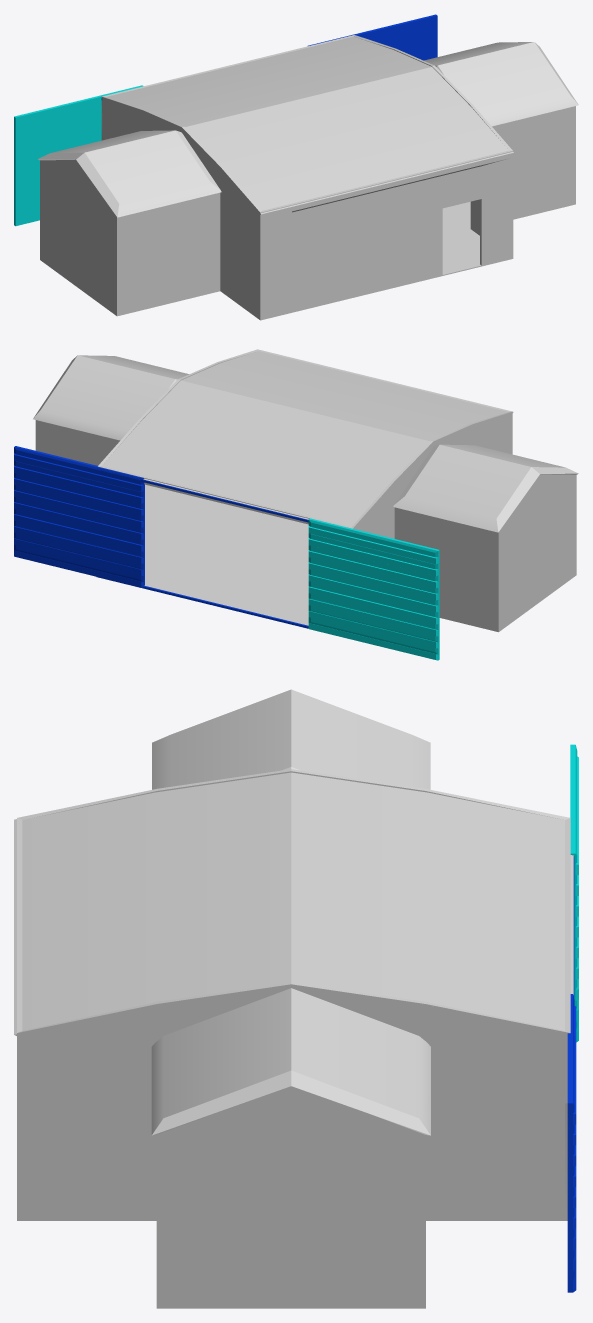
Rendered from EsasHangar.fbx.
3 renders of one model, top to bottom at view 1: azimuth 30°, elevation 25°; view 2: azimuth 150°, elevation 25°; view 3: azimuth 270°, elevation 25°, orthographic. The views are drawn at different scales.
Visible parts, largest first — view 1: Çatı, Wall4, Wall2, Wall1, Wall6, MainHangar, Kapı2, Wall3, Zemin, Kapı1, Wall10, Wall5; view 2: Çatı, Zemin, Kapı2, Kapı1, Wall1, Wall11, MainHangar, Wall8, Wall3, Kapı Tekerleği1, Wall10, Kapı Tekerleği2; view 3: Çatı, Wall7, Wall9, Wall5, MainHangar, Kapı1, Kapı2, Zemin, Wall6, Wall4, Wall8.
Part boxes in pixels (left/top/right/bottom): Çatı: left=38, top=36, right=578, bottom=217; Wall4: left=258, top=158, right=510, bottom=319; Wall2: left=115, top=192, right=220, bottom=315; Wall1: left=41, top=159, right=119, bottom=315; Wall6: left=492, top=106, right=573, bottom=218; MainHangar: left=101, top=35, right=513, bottom=218; Kapı2: left=14, top=85, right=143, bottom=226; Wall3: left=220, top=190, right=262, bottom=319; Zemin: left=40, top=201, right=575, bottom=320; Kapı1: left=308, top=14, right=437, bottom=60; Wall10: left=101, top=103, right=139, bottom=139; Wall5: left=470, top=157, right=513, bottom=258; Çatı: left=33, top=351, right=578, bottom=532; Zemin: left=144, top=484, right=574, bottom=631; Kapı2: left=308, top=518, right=439, bottom=660; Kapı1: left=14, top=446, right=144, bottom=587; Wall1: left=496, top=474, right=574, bottom=631; Wall11: left=394, top=507, right=500, bottom=631; MainHangar: left=98, top=349, right=512, bottom=530; Wall8: left=38, top=420, right=119, bottom=465; Wall3: left=475, top=419, right=511, bottom=453; Kapı Tekerleği1: left=96, top=576, right=308, bottom=628; Wall10: left=360, top=505, right=394, bottom=538; Kapı Tekerleği2: left=96, top=468, right=308, bottom=522; Çatı: left=14, top=689, right=573, bottom=1135; Wall7: left=162, top=1086, right=420, bottom=1306; Wall9: left=426, top=1044, right=567, bottom=1219; Wall5: left=22, top=1044, right=156, bottom=1219; MainHangar: left=17, top=769, right=570, bottom=1220; Kapı1: left=567, top=994, right=576, bottom=1292; Kapı2: left=570, top=744, right=578, bottom=1042; Zemin: left=17, top=1219, right=567, bottom=1308; Wall6: left=156, top=1133, right=162, bottom=1308; Wall4: left=17, top=1044, right=22, bottom=1220; Wall8: left=420, top=1133, right=425, bottom=1308.
Size of the model in its own units: 48323 by 13616 by 29222.
